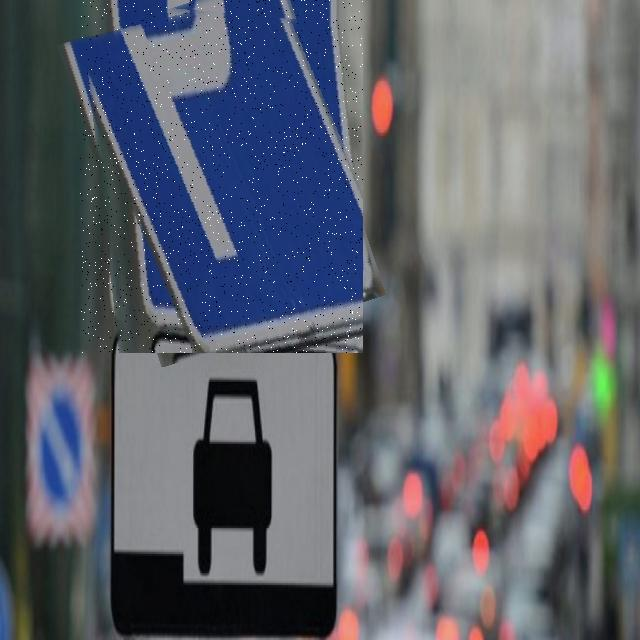parking: (80, 0, 363, 353)
